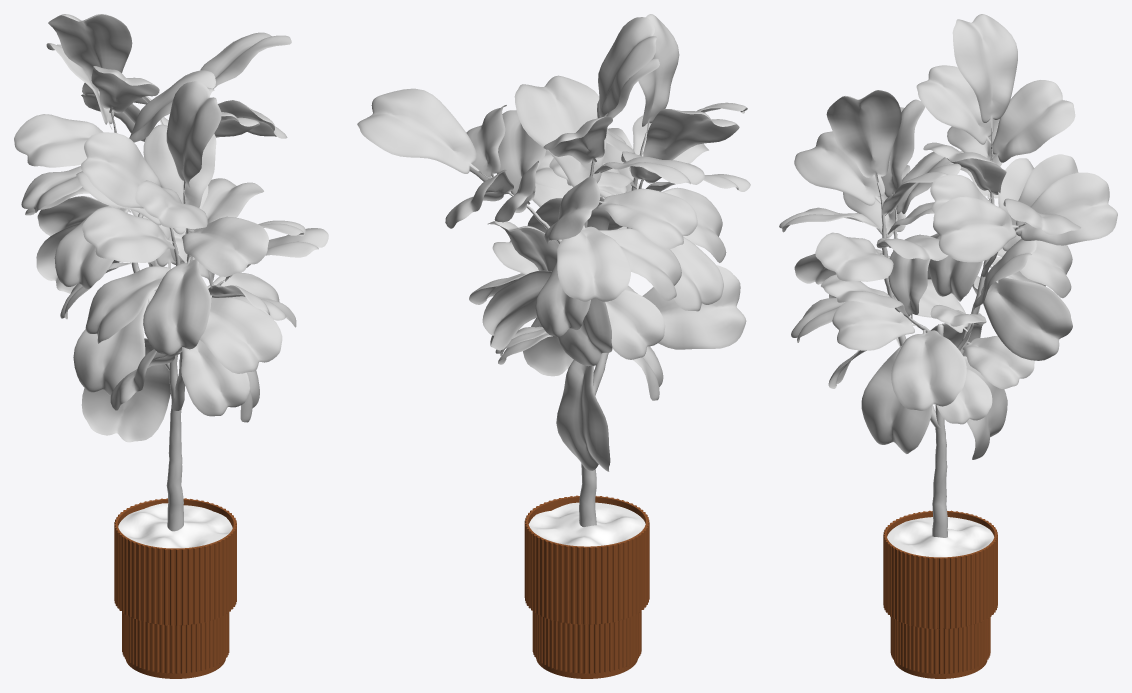
Rendered from Plant_2.FBX.
3 views of the same model, side by side, from view 1: azimuth 30°, elevation 25°; view 2: azimuth 150°, elevation 25°; view 3: azimuth 270°, elevation 25° (orthographic). The views are drawn at different scales.
Visible parts, largest first — view 1: SM_Plant_2; view 2: SM_Plant_2; view 3: SM_Plant_2.
Part boxes in pixels (box(x1,y1,x2,y2)): SM_Plant_2: box(14, 14, 328, 678); SM_Plant_2: box(357, 14, 750, 678); SM_Plant_2: box(779, 14, 1117, 678).
Bounding box in the file's own units: 53.19 × 113 × 57.13.
